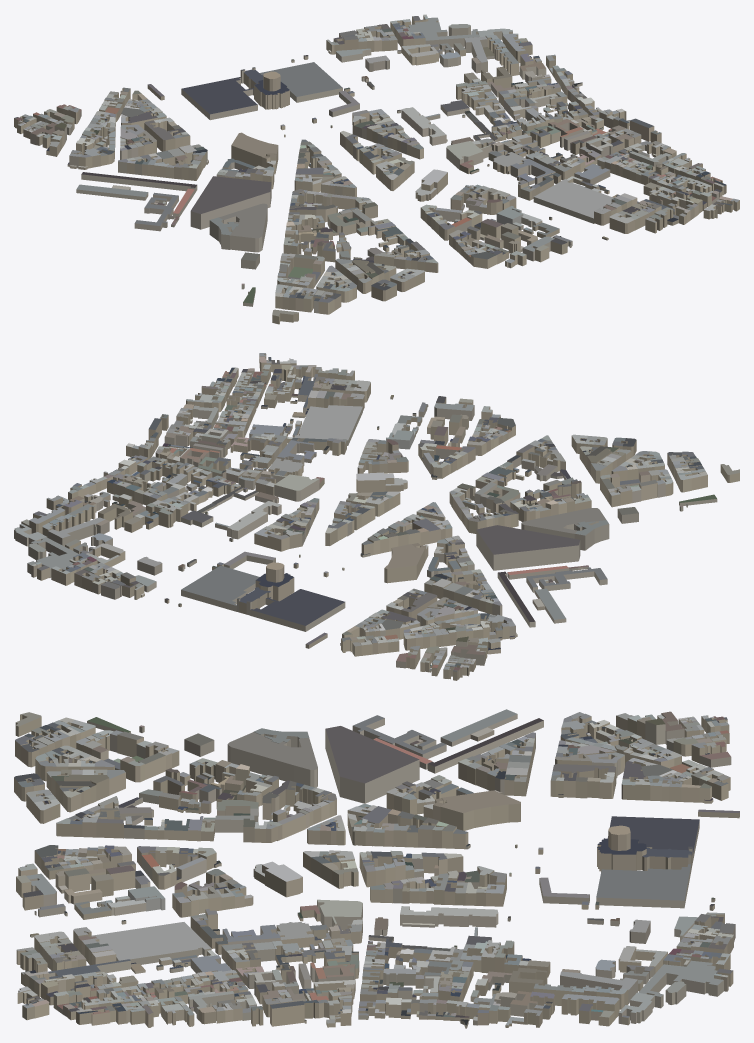
3 views of the same model, one above another, from view 1: azimuth 30°, elevation 25°; view 2: azimuth 150°, elevation 25°; view 3: azimuth 270°, elevation 25° (orthographic). The views are drawn at different scales.
Visible parts, largest first — view 1: tuile; view 2: tuile; view 3: tuile.
Part boxes in pixels (<box>): tuile: <box>14,14,739,324</box>; tuile: <box>14,353,739,680</box>; tuile: <box>14,709,739,1028</box>.
Bounding box in the file's own units: 1056 × 65.09 × 1031.
